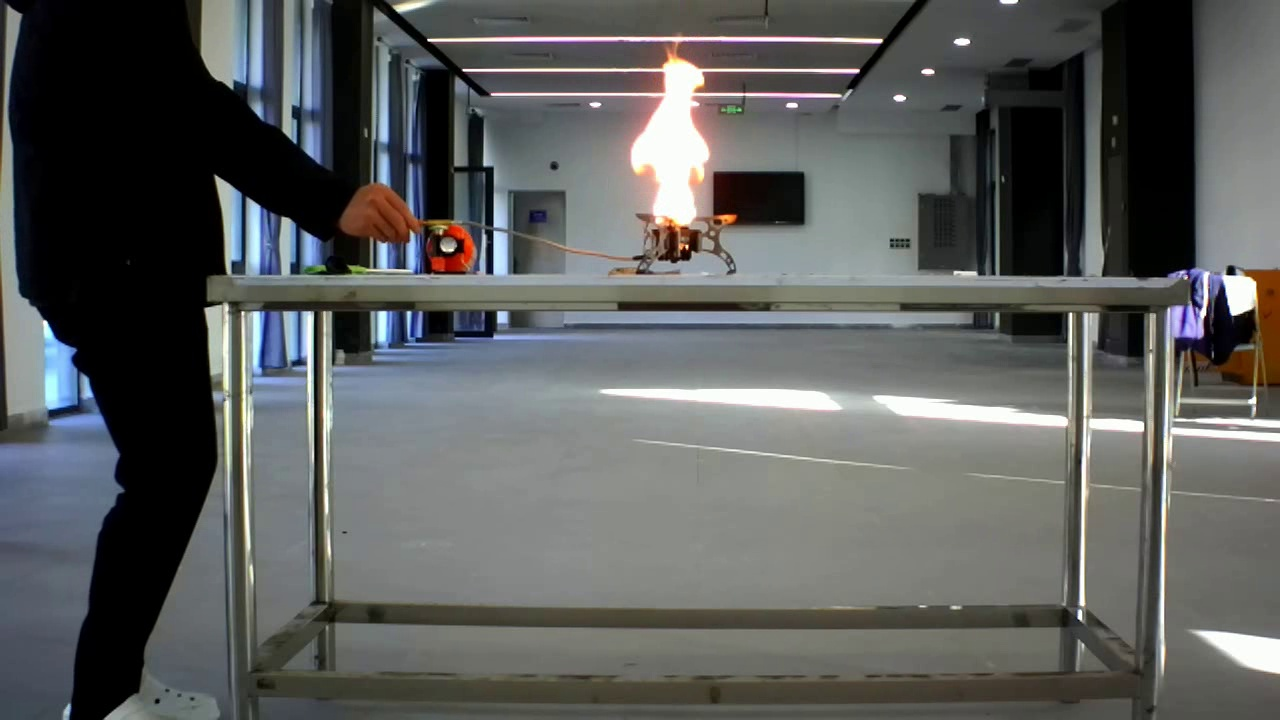Fire: (615, 42, 743, 263)
